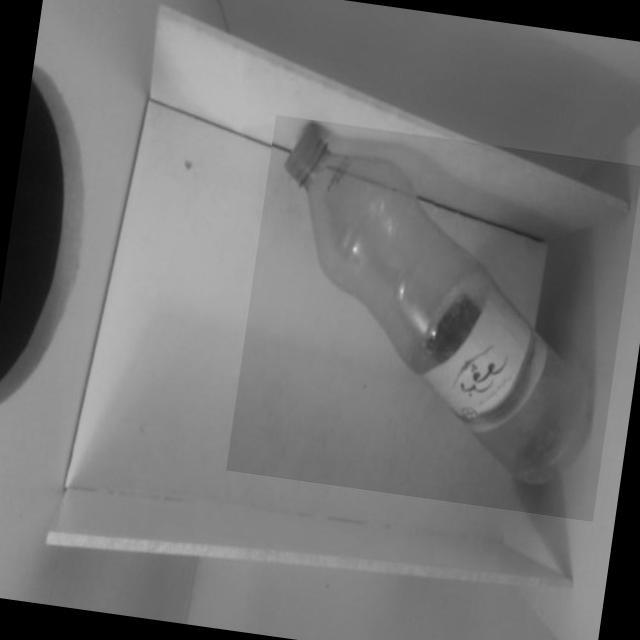good: (224, 115, 640, 523)
